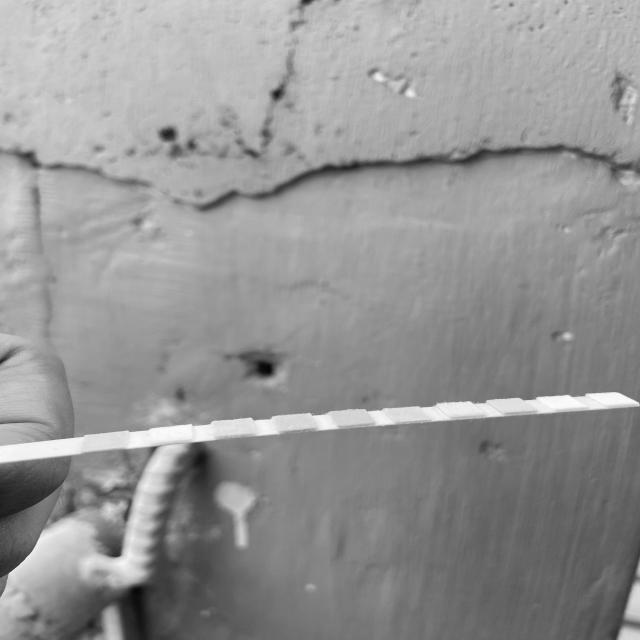Bilirubin: (150, 430, 191, 440)
Blood: (332, 412, 369, 423)
Glucose: (85, 437, 125, 448)
Ketone: (213, 422, 254, 432)
Leukocytes: (607, 392, 617, 406)
Nitrite: (557, 396, 568, 410)
Protein: (452, 402, 469, 417)
SpGravity: (274, 417, 313, 428)
Urobilinogen: (505, 398, 518, 412)
background: (0, 0, 640, 640)
pH: (396, 409, 420, 421)
strip: (0, 393, 639, 462)
